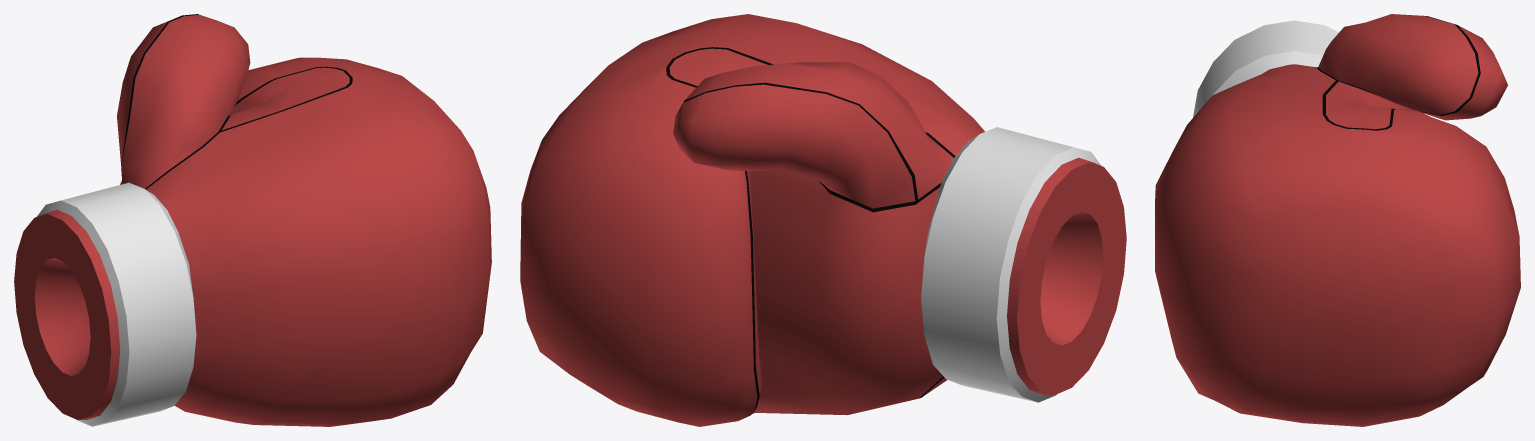
File: BoxingGloves_R.fbx
3 renders of one model, left to right at view 1: azimuth 30°, elevation 25°; view 2: azimuth 150°, elevation 25°; view 3: azimuth 270°, elevation 25°, orthographic. The views are drawn at different scales.
Visible parts, largest first — view 1: SM_WEP_BoxingGloves_R.001; view 2: SM_WEP_BoxingGloves_R.001; view 3: SM_WEP_BoxingGloves_R.001.
Boxes of the visible parts, left/top/right/bottom form: SM_WEP_BoxingGloves_R.001: left=14, top=14, right=491, bottom=426; SM_WEP_BoxingGloves_R.001: left=520, top=14, right=1126, bottom=426; SM_WEP_BoxingGloves_R.001: left=1155, top=14, right=1520, bottom=426.
Size of the model in its own units: 2770 by 2220 by 2161.
